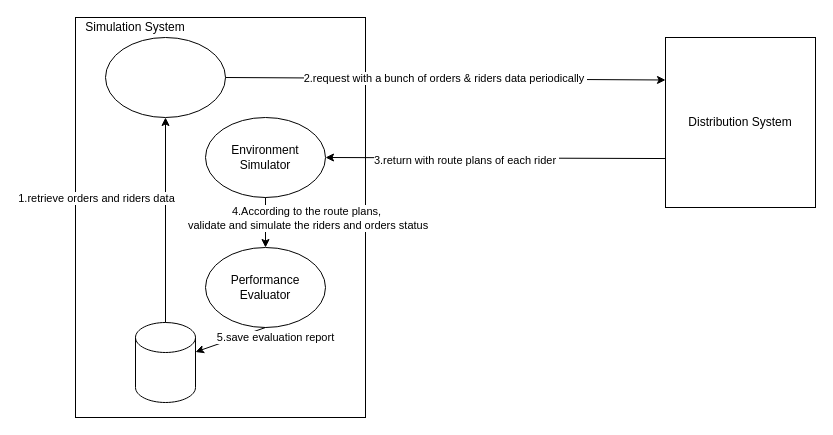
This 833x435 diagram has some shape labels left out. The shapes that lost their labels are listed below. From the top down, each one's centre as x and y in pixels, then its label:
At point 165,77: "Order Generator".
At point 165,362: "Data Store".
